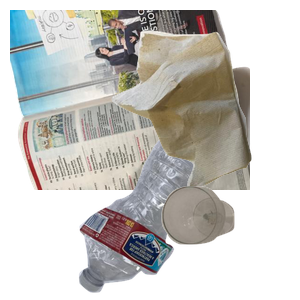glass: (159, 184, 300, 300)
paper: (10, 10, 250, 190)
plastic: (76, 131, 280, 300)
trash: (109, 28, 300, 208)
